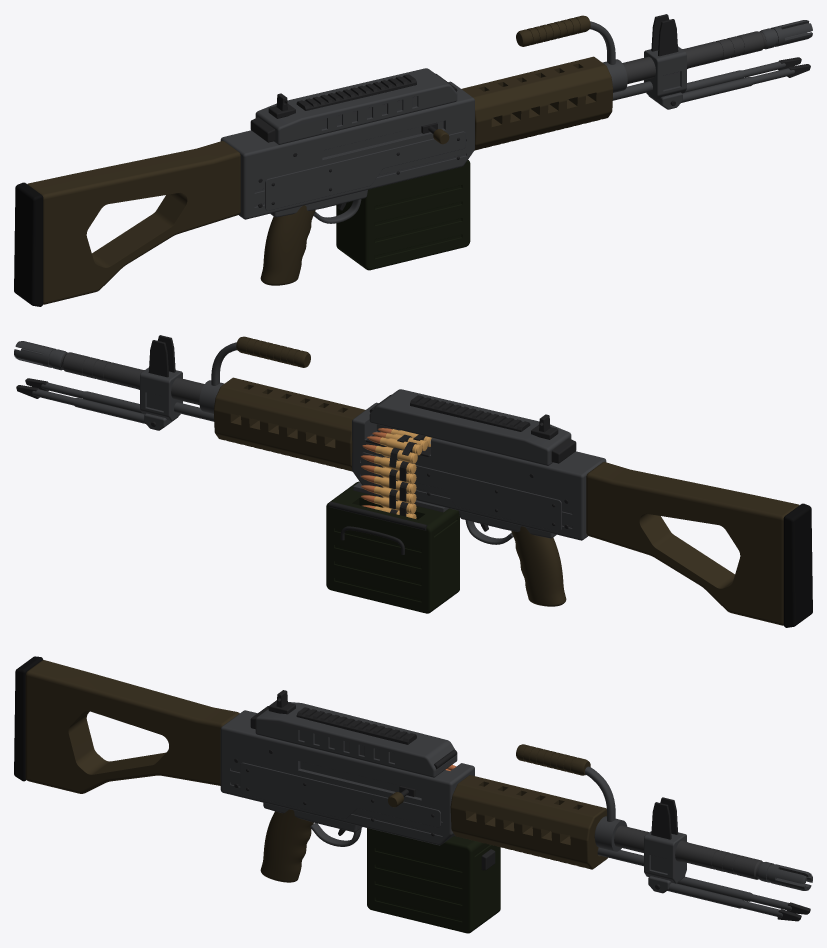
The model's file is metralhadora.obj.
The picture shows the model from 3 angles, top to bottom: view 1: azimuth 30°, elevation 25°; view 2: azimuth 150°, elevation 25°; view 3: azimuth 330°, elevation 25°; orthographic projection.
Visible parts, largest first — view 1: coronha, armacao, pente, guarda_mao, tampa, soleira, empunhadura, bipe, cano, alca, bloco_gas, quebra_chamas (+2 smaller); view 2: coronha, pente, armacao, guarda_mao, tampa, soleira, empunhadura, bipe, cano, alca, bloco_gas, quebra_chamas (+2 smaller); view 3: coronha, armacao, pente, guarda_mao, tampa, empunhadura, bipe, alca, cano, bloco_gas, soleira, quebra_chamas (+2 smaller).
Part boxes in pixels (x1,y1,x2,y2): coronha: (27,141,240,304); armacao: (220,81,474,219); pente: (336,160,470,270); guarda_mao: (461,56,613,150); tampa: (250,68,457,144); soleira: (14,182,43,306); empunhadura: (260,205,315,285); bipe: (648,57,810,109); cano: (622,31,766,83); alca: (516,15,627,92); bloco_gas: (644,46,686,99); quebra_chamas: (759,20,812,49); coronha: (586,462,799,625); pente: (326,432,459,613); armacao: (352,402,606,540); guarda_mao: (214,377,365,471); tampa: (369,389,576,465); soleira: (783,503,812,627); empunhadura: (511,526,566,606); bipe: (16,378,178,430); cano: (60,352,204,404); alca: (199,336,310,413); bloco_gas: (140,367,182,420); quebra_chamas: (14,341,67,370); coronha: (25,660,239,793); armacao: (220,710,474,845); pente: (367,764,500,933); guarda_mao: (450,775,607,869); tampa: (250,690,457,777); empunhadura: (260,809,313,882); bipe: (648,876,810,921); alca: (516,744,627,851); cano: (594,823,762,879); bloco_gas: (644,831,686,883); soleira: (14,656,43,781); quebra_chamas: (757,862,812,890).
Size of the model in its own units: 1044 by 258 by 133.
